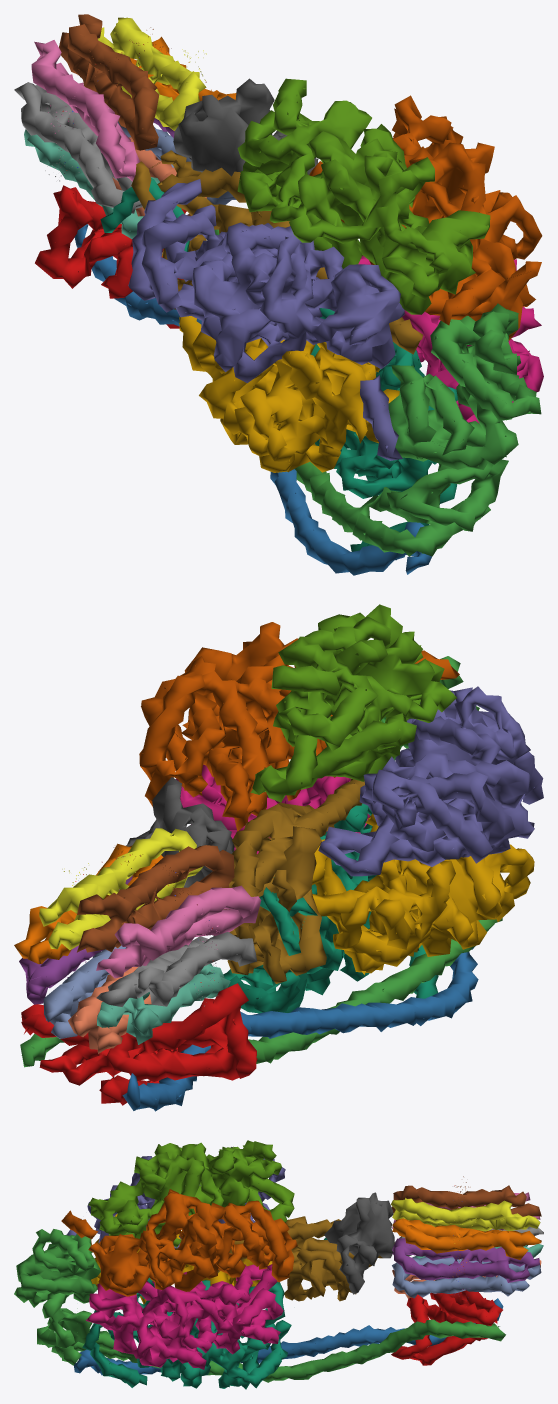
File: 7JG8_lores.glb
The picture shows the model from 3 angles, top to bottom: view 1: azimuth 30°, elevation 25°; view 2: azimuth 150°, elevation 25°; view 3: azimuth 270°, elevation 25°; orthographic projection. The views are drawn at different scales.
Parts seen in each view (by area): view 1: Mesh_0; view 2: Mesh_0; view 3: Mesh_0.
Part boxes in pixels (bbox=[...]): Mesh_0: bbox=[14, 14, 543, 575]; Mesh_0: bbox=[14, 604, 543, 1111]; Mesh_0: bbox=[14, 1140, 543, 1389].
Bounding box in the file's own units: 112 × 122 × 232.
